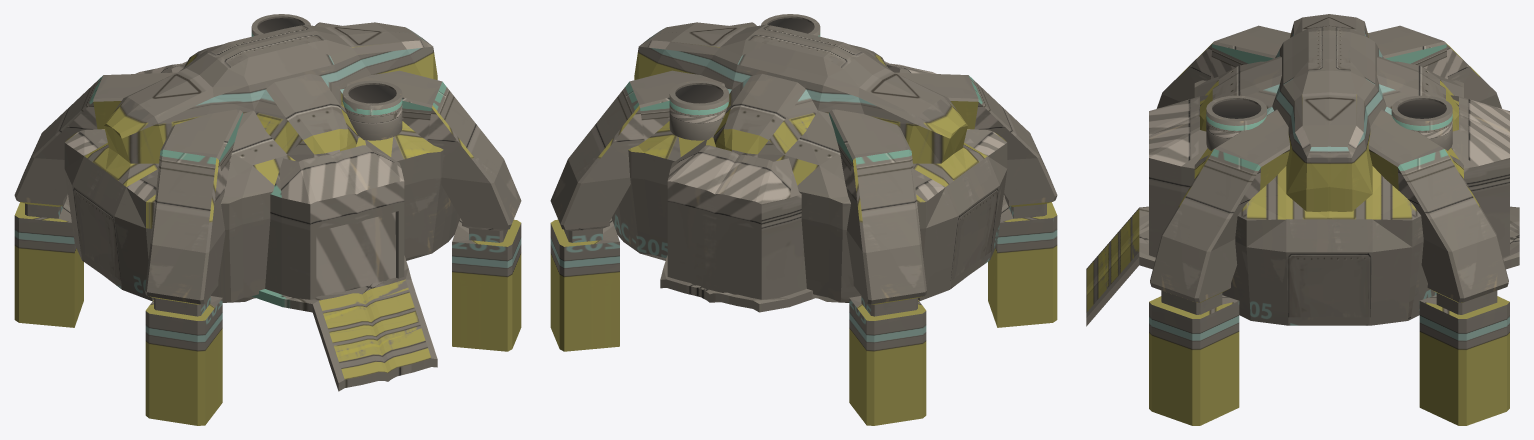
The model's file is engineering_bay.dae.
3 renders of one model, left to right at view 1: azimuth 30°, elevation 25°; view 2: azimuth 150°, elevation 25°; view 3: azimuth 270°, elevation 25°, orthographic.
Visible parts, largest first — view 1: human_bay; view 2: human_bay; view 3: human_bay.
Boxes of the visible parts, x1,y1,x2,y2 form: human_bay: (14,14,521,425); human_bay: (550,14,1057,425); human_bay: (1086,14,1519,425).
Size of the model in its own units: 20.37 by 20 by 14.69.
